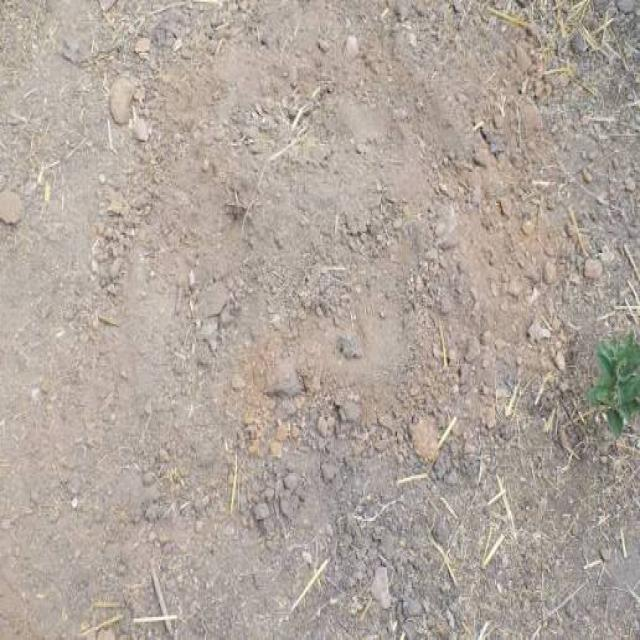suelo_seco: (116, 84, 417, 603)
